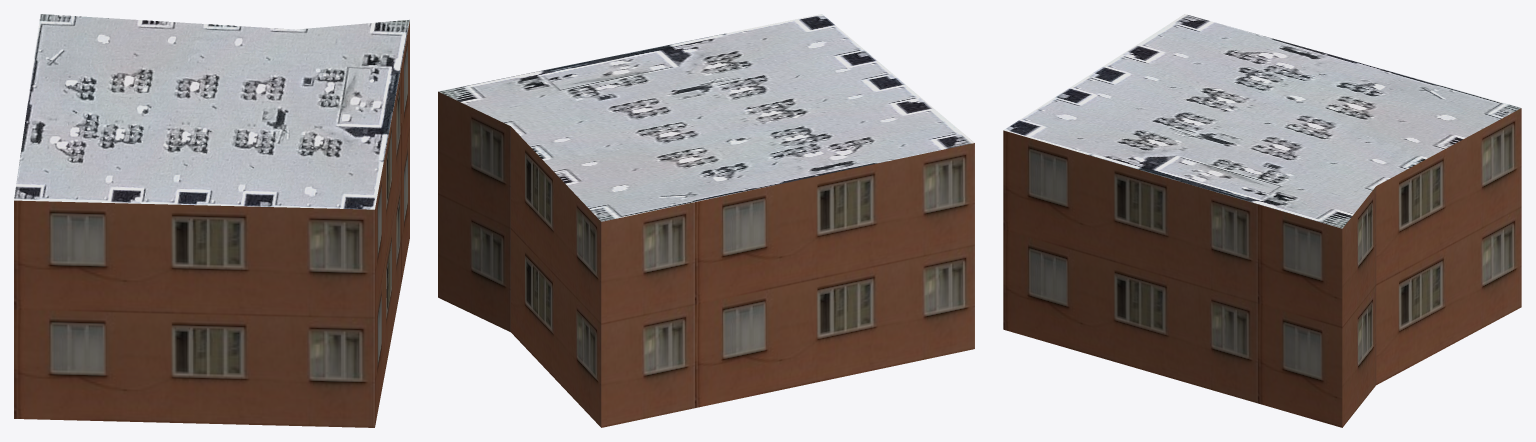
Rendered from ResTex__437.fbx.
3 renders of one model, left to right at view 1: azimuth 30°, elevation 25°; view 2: azimuth 150°, elevation 25°; view 3: azimuth 270°, elevation 25°, orthographic. The views are drawn at different scales.
Visible parts, largest first — view 1: CityEngineMaterial_20_m, CityEngineMaterial_m; view 2: CityEngineMaterial_20_m, CityEngineMaterial_m; view 3: CityEngineMaterial_20_m, CityEngineMaterial_m.
Part boxes in pixels (<box>): CityEngineMaterial_20_m: <box>14,21,409,427</box>; CityEngineMaterial_m: <box>14,14,409,209</box>; CityEngineMaterial_20_m: <box>438,91,974,427</box>; CityEngineMaterial_m: <box>438,14,974,221</box>; CityEngineMaterial_20_m: <box>1003,108,1521,427</box>; CityEngineMaterial_m: <box>1003,14,1521,228</box>.
Bounding box in the file's own units: 13.87 × 6 × 14.16.
Materials: 2 (2 with a texture image).
